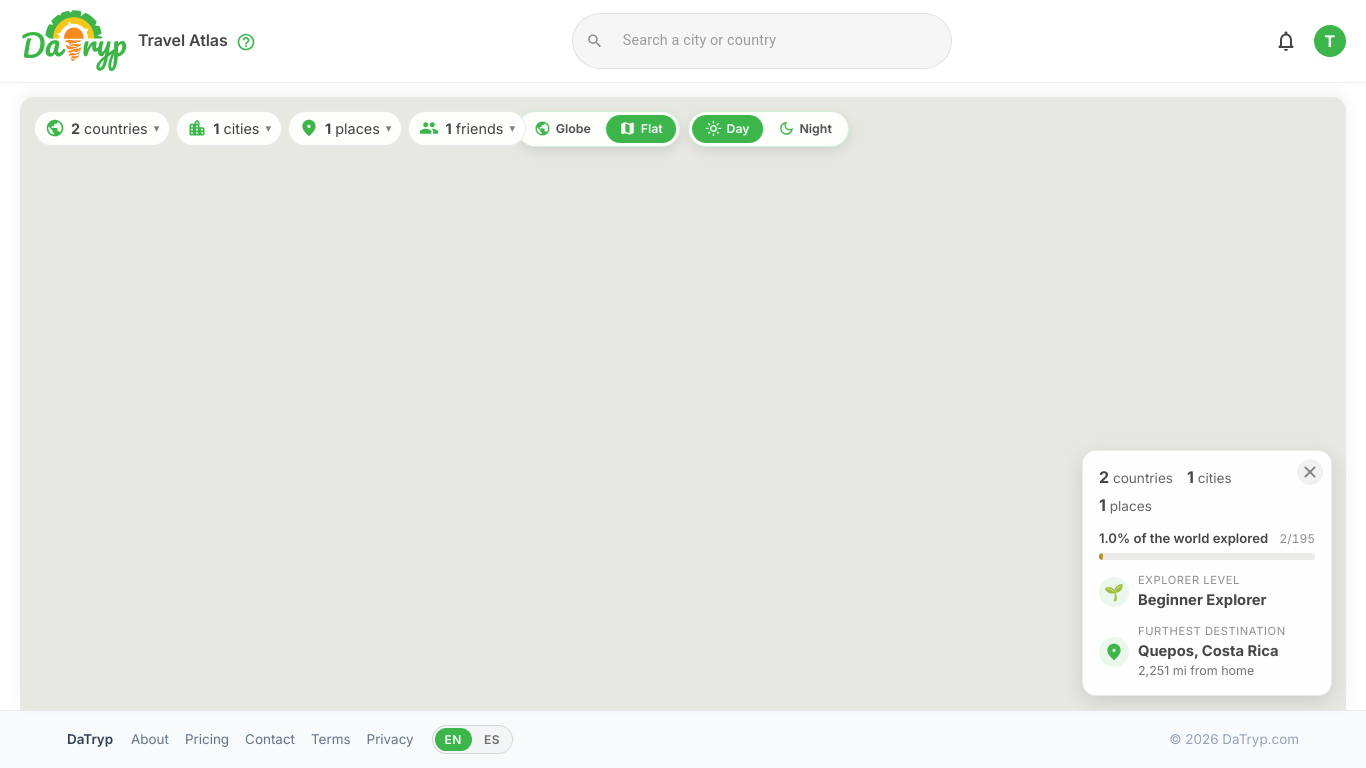
Test: MyMap — About panel + toggle pills › swaps between the Stats card and the About card via the pills
Stats open by default → close it to reveal the pills.
Click the button named "Hide stats" at point(1310, 472), box [1297,459,1323,485]
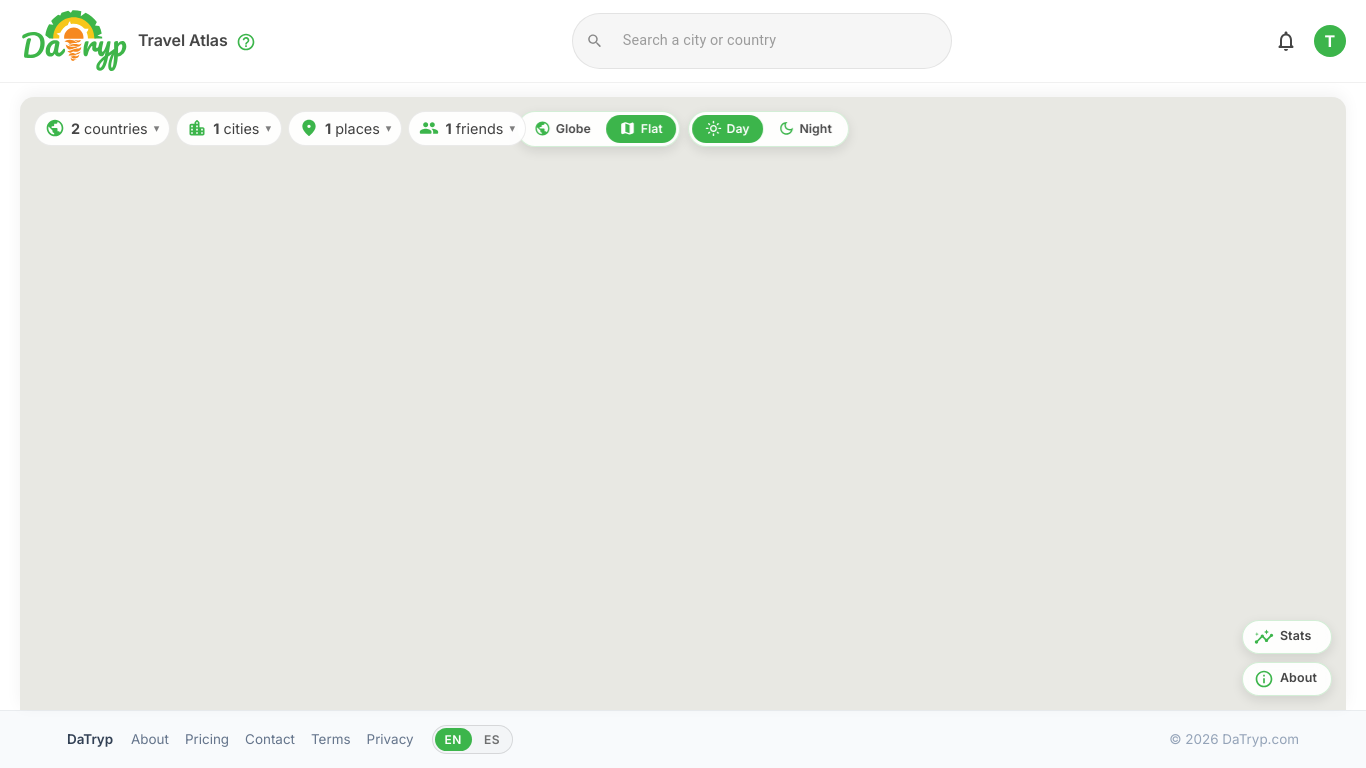
Click the button with aria-label "About Travel Atlas" at point(1287, 679), box [1242,662,1332,696]
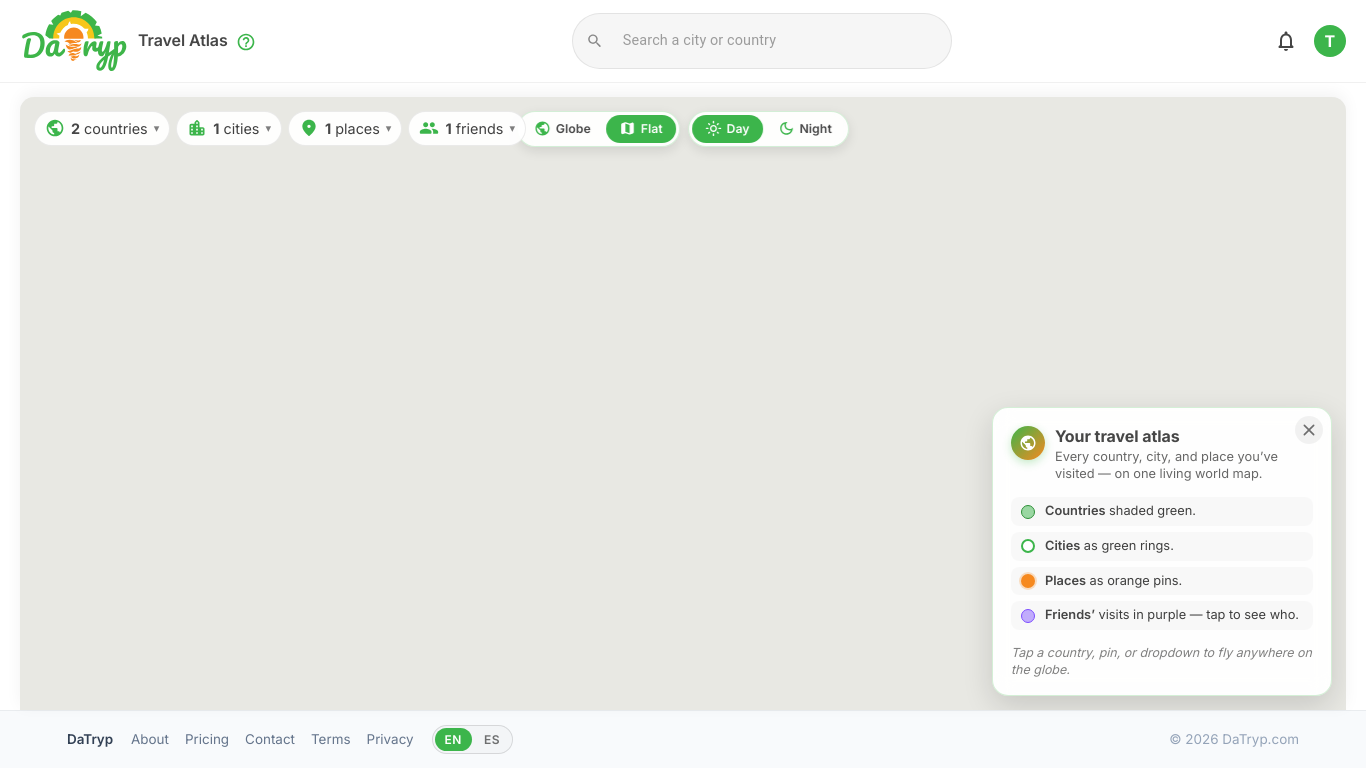
Expected: the heading "Your travel atlas" is shown, [1055,426,1180,446]
Dismiss the About card.
Click the button named "Hide intro" at point(1309, 430), box [1295,416,1323,444]
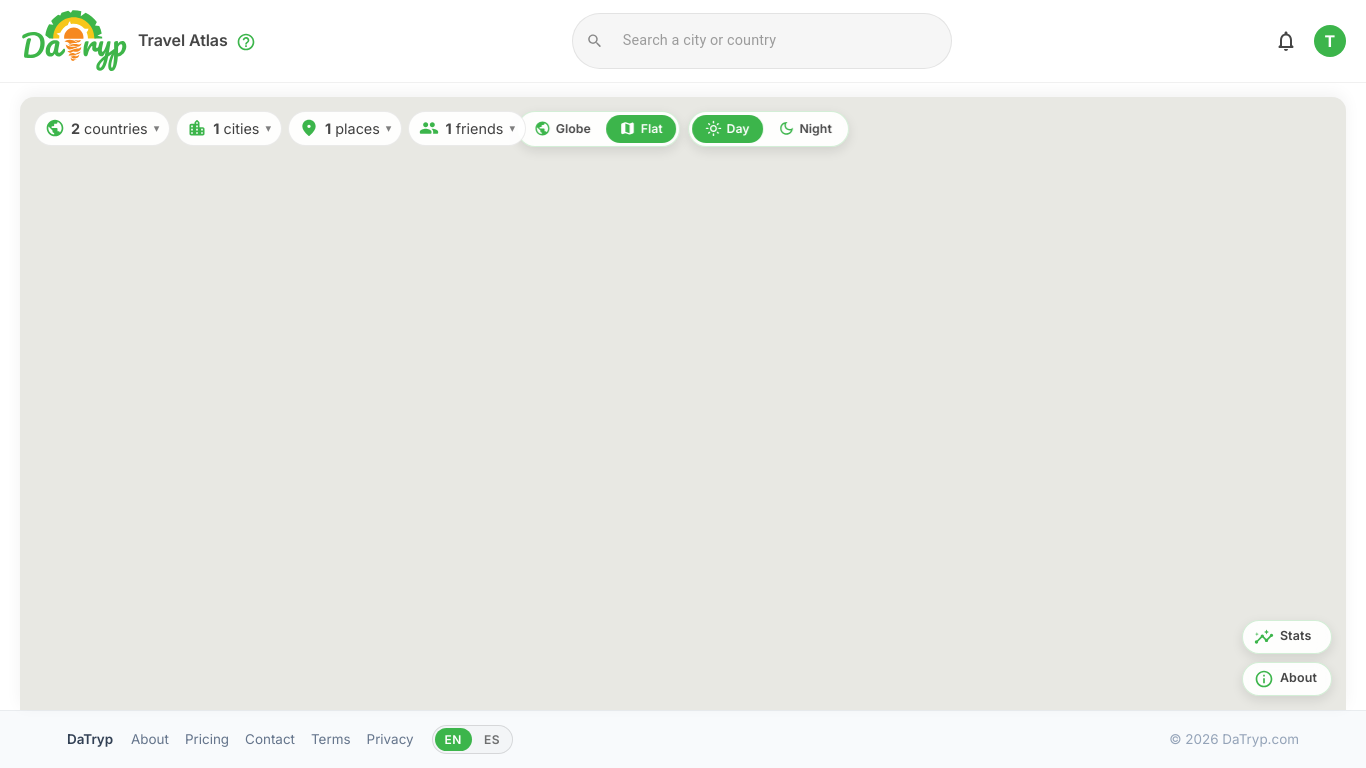
Reopen the stats from its pill.
Click the button with aria-label "Travel stats" at point(1287, 637), box [1242,620,1332,654]
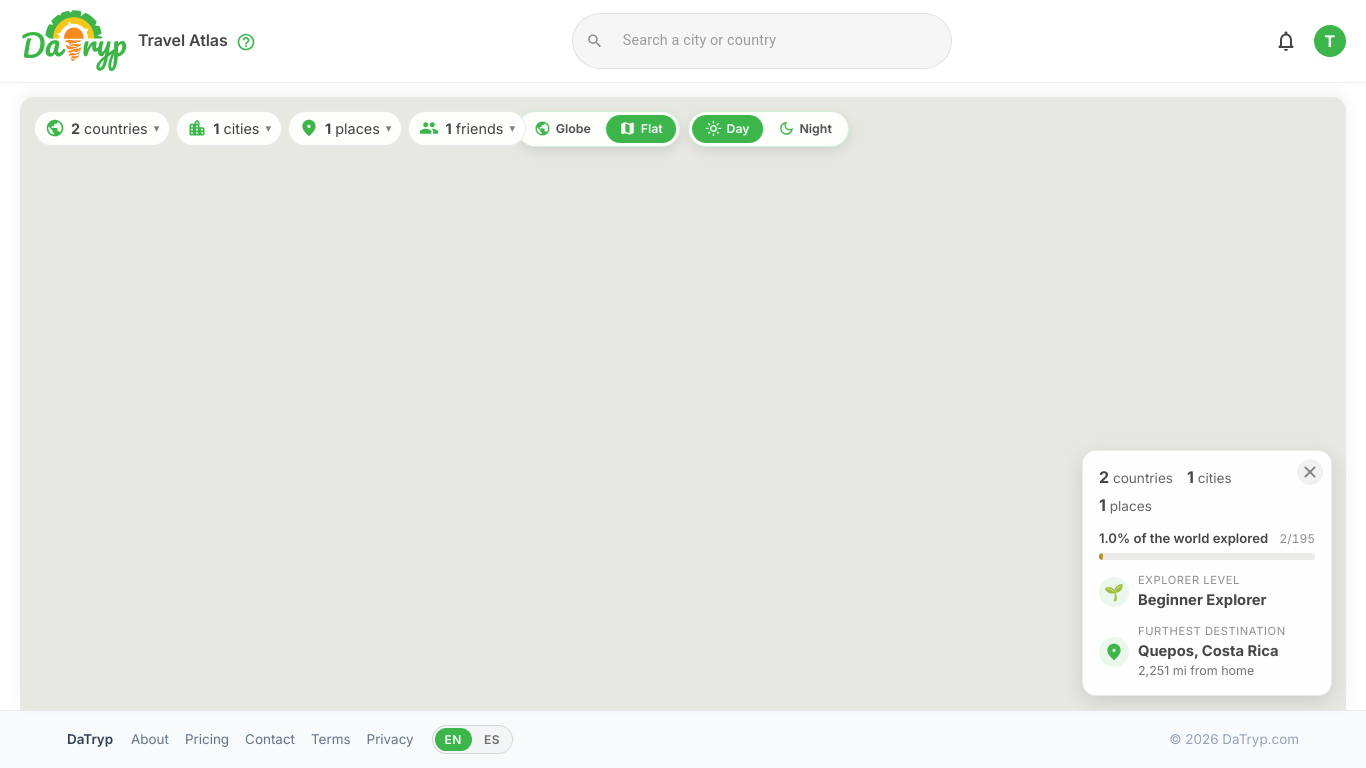
Expected: the element named "Your travel atlas summary" is shown, [1082,450,1332,696]
